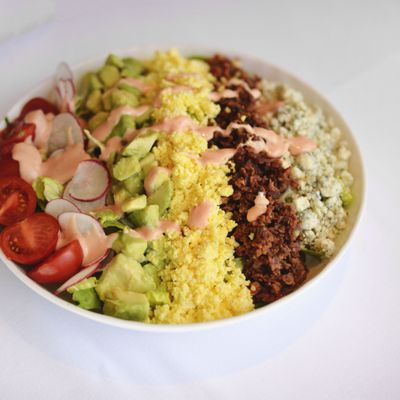sushi: (5, 38, 368, 334)
